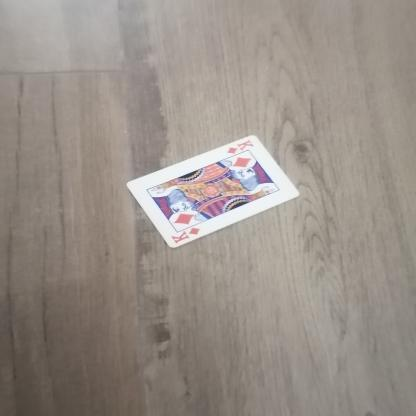KD: (167, 227, 212, 248), (224, 136, 258, 160)
